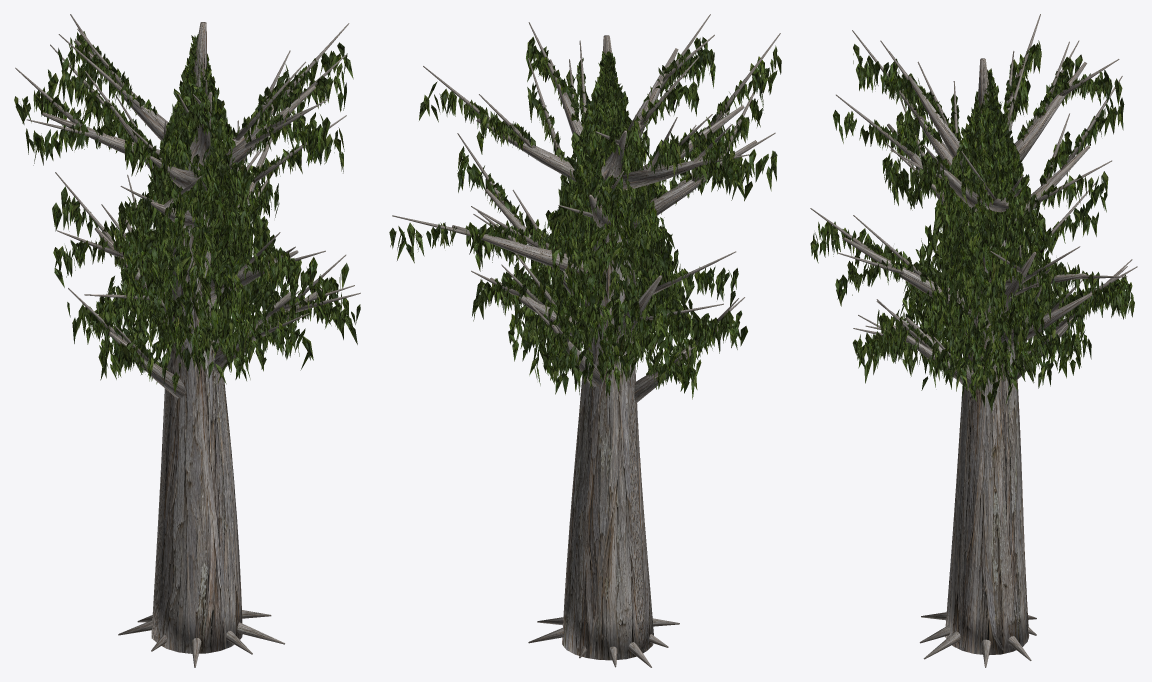
Rendered from watchtower-leafy-willow-v01.glb.
3 renders of one model, left to right at view 1: azimuth 30°, elevation 25°; view 2: azimuth 150°, elevation 25°; view 3: azimuth 270°, elevation 25°, orthographic. The views are drawn at different scales.
Visible parts, largest first — view 1: watchtower-leafy-willow-v01; view 2: watchtower-leafy-willow-v01; view 3: watchtower-leafy-willow-v01.
Part boxes in pixels (x1=…): watchtower-leafy-willow-v01: x1=14, y1=14, x2=360, y2=667; watchtower-leafy-willow-v01: x1=389, y1=14, x2=781, y2=667; watchtower-leafy-willow-v01: x1=810, y1=14, x2=1137, y2=667.
Size of the model in its own units: 4.34 by 7.61 by 3.9.
2 materials, 2 textured.
